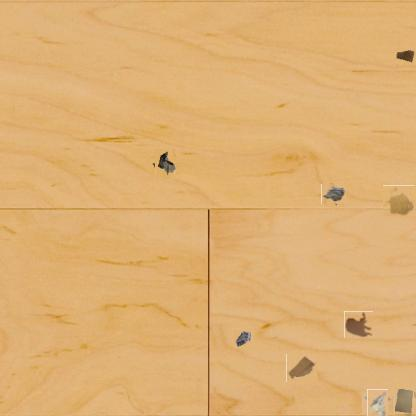dirty: (286, 354, 317, 382), (152, 152, 178, 178), (364, 391, 390, 416), (396, 390, 416, 416), (323, 183, 345, 206), (234, 330, 254, 348), (394, 48, 416, 64)
liquid: (383, 185, 415, 216), (344, 311, 373, 338)
